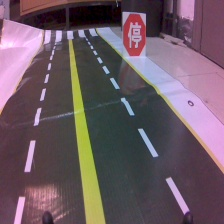stop: (121, 10, 149, 61)
